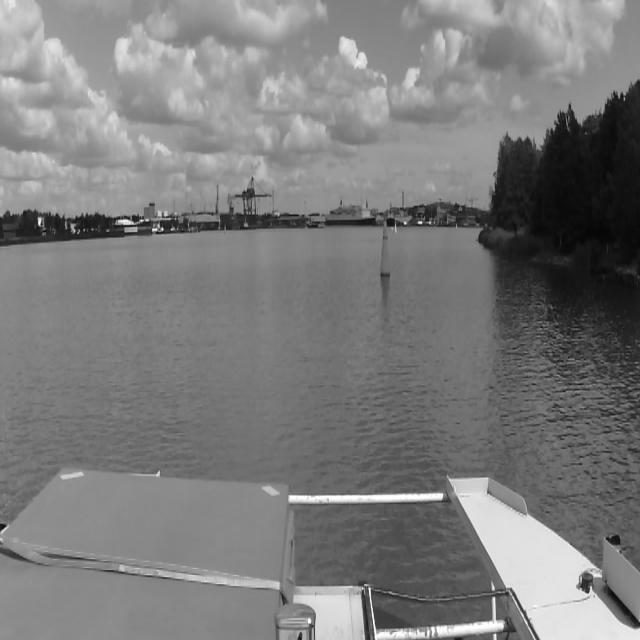buoy: (380, 220, 390, 278), (393, 221, 397, 233)
ship: (326, 199, 376, 226)
